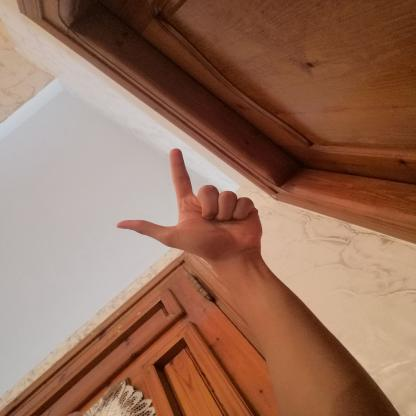LAAM: (100, 140, 273, 268)
